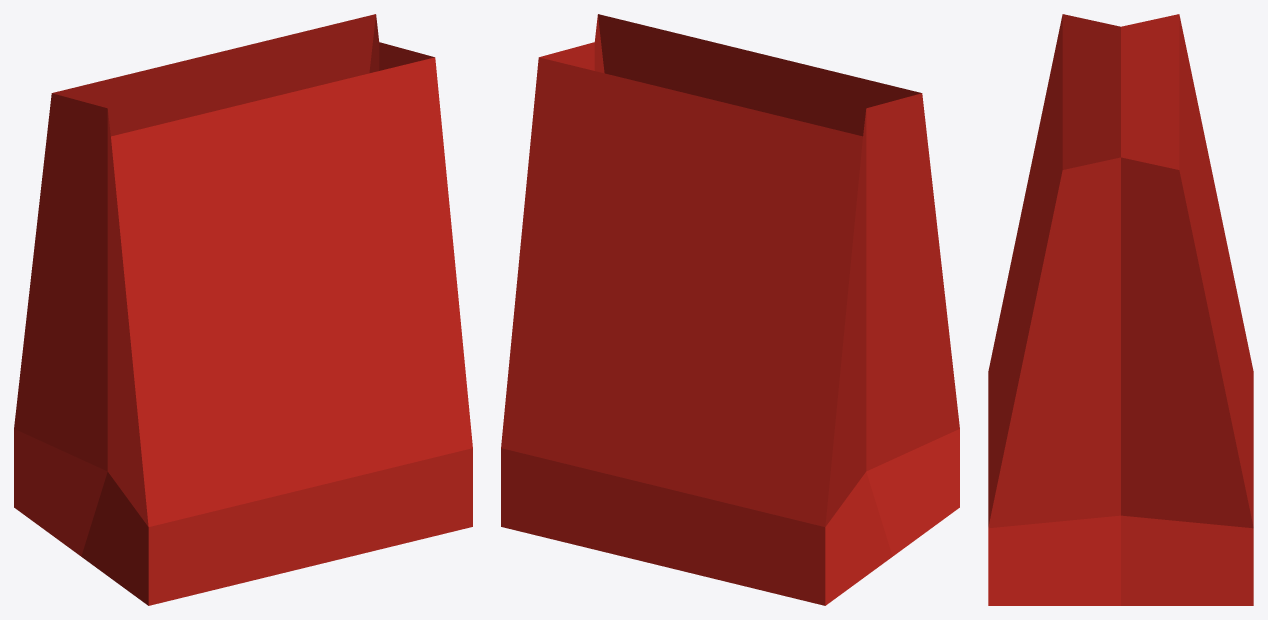
The model's file is asset.glb.
The picture shows the model from 3 angles, left to right: view 1: azimuth 30°, elevation 25°; view 2: azimuth 150°, elevation 25°; view 3: azimuth 270°, elevation 25°; orthographic projection.
Visible parts, largest first — view 1: bag; view 2: bag; view 3: bag.
Boxes of the visible parts, <box> form: bag: <box>14,14,472,605</box>; bag: <box>501,14,959,605</box>; bag: <box>988,14,1253,605</box>.
Bounding box in the file's own units: 2.02 × 2.63 × 1.45.
